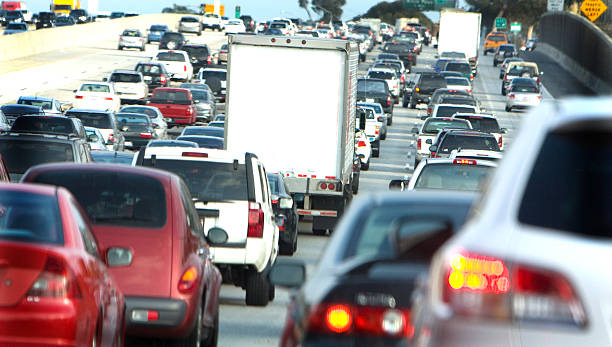car: (29, 166, 218, 342), (135, 147, 273, 307), (2, 183, 121, 347), (15, 115, 85, 166), (415, 111, 470, 166), (69, 110, 121, 152), (432, 128, 490, 164), (357, 75, 392, 122), (404, 72, 445, 109), (155, 87, 194, 124), (116, 109, 154, 145), (76, 82, 116, 115), (506, 60, 541, 94), (110, 69, 144, 102), (507, 78, 542, 110), (155, 48, 191, 78), (185, 86, 214, 122), (198, 68, 226, 101), (135, 62, 167, 89), (382, 43, 414, 70), (447, 55, 473, 88), (494, 45, 520, 67), (486, 32, 507, 59), (119, 29, 142, 53), (353, 23, 375, 48), (180, 14, 203, 33), (202, 11, 222, 31), (223, 17, 245, 35), (147, 24, 167, 43)
truck: (229, 33, 348, 233), (439, 9, 483, 75), (49, 1, 81, 25)
